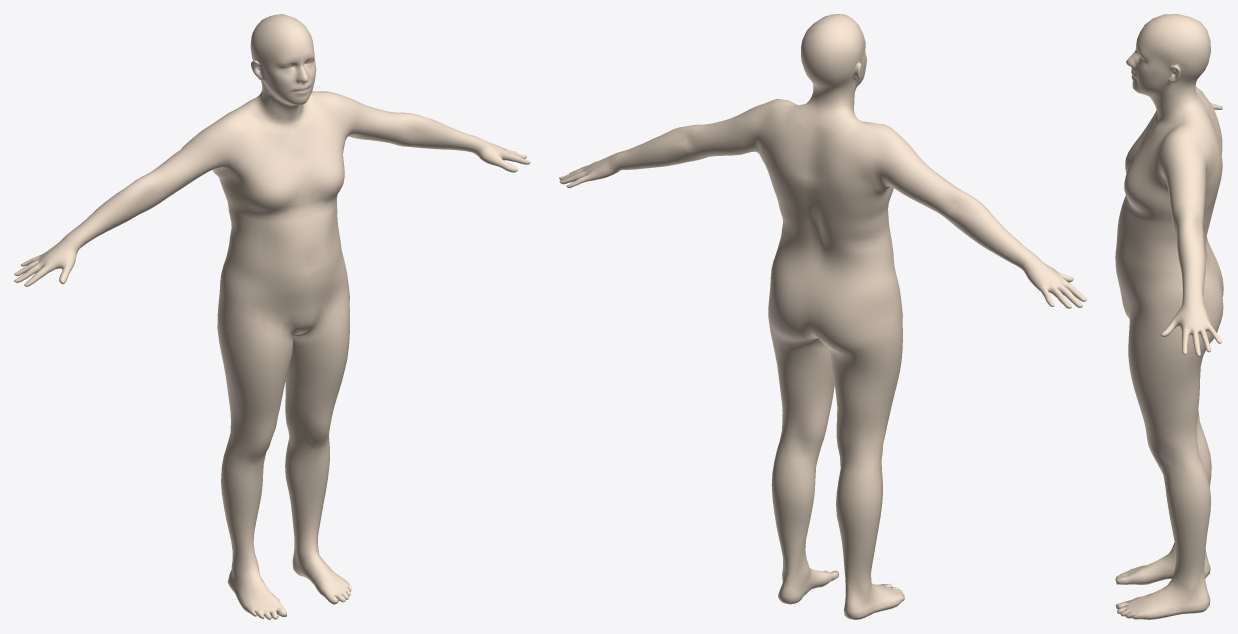
Rendered from human_avatar_a_pose.glb.
3 renders of one model, left to right at view 1: azimuth 30°, elevation 25°; view 2: azimuth 150°, elevation 25°; view 3: azimuth 270°, elevation 25°, orthographic. The views are drawn at different scales.
Parts seen in each view (by area): view 1: HumanoidAvatar_neutral_A-pose; view 2: HumanoidAvatar_neutral_A-pose; view 3: HumanoidAvatar_neutral_A-pose.
Boxes of the visible parts, x1,y1,x2,y2 form: HumanoidAvatar_neutral_A-pose: (14,14,530,619); HumanoidAvatar_neutral_A-pose: (559,14,1086,619); HumanoidAvatar_neutral_A-pose: (1115,14,1223,619).
Bounding box in the file's own units: 1.61 × 1.72 × 0.2902.
